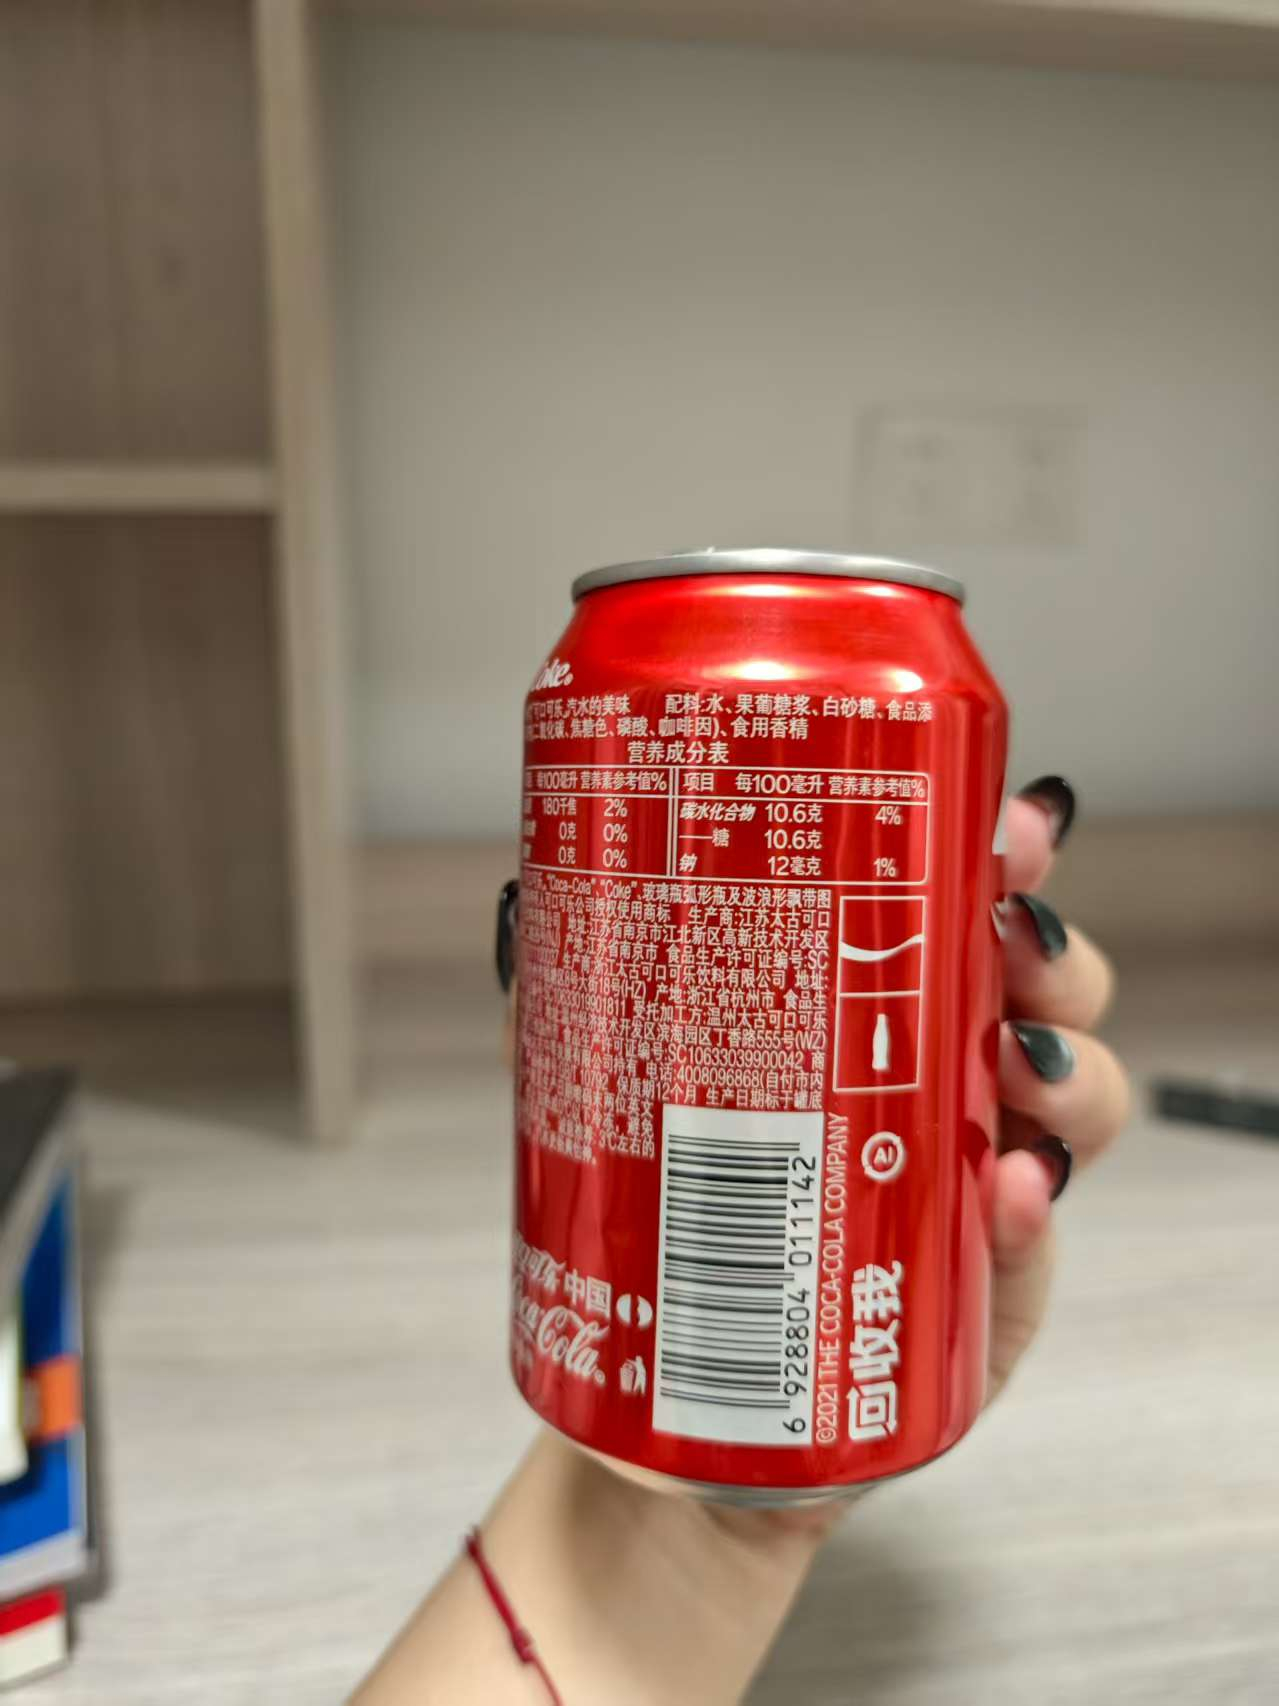可乐: (469, 505, 1073, 1498)
